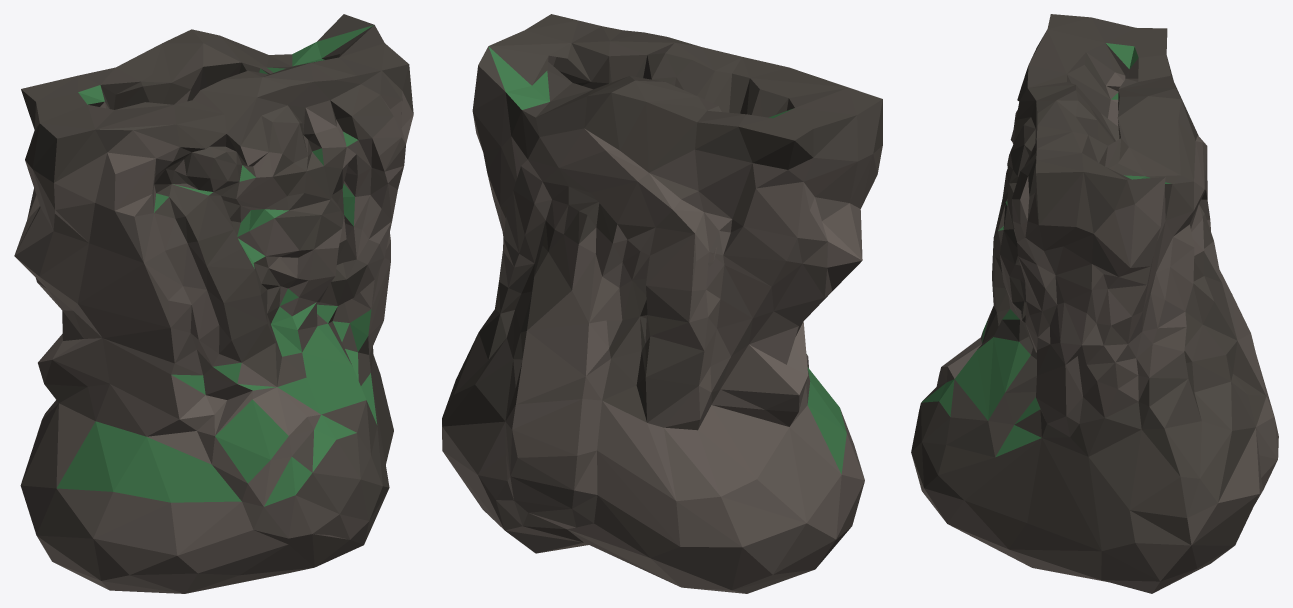
The model's file is Pilar_base.fbx.
3 renders of one model, left to right at view 1: azimuth 30°, elevation 25°; view 2: azimuth 150°, elevation 25°; view 3: azimuth 270°, elevation 25°, orthographic. The views are drawn at different scales.
Visible parts, largest first — view 1: Cube.004; view 2: Cube.004; view 3: Cube.004.
Part boxes in pixels (left/top/right/bottom): Cube.004: left=14, top=14, right=413, bottom=593; Cube.004: left=442, top=14, right=882, bottom=593; Cube.004: left=911, top=14, right=1278, bottom=593.
Bounding box in the file's own units: 627 × 774 × 557.
